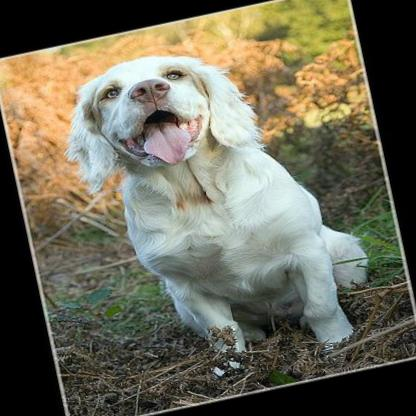clumber: (47, 19, 387, 406)
